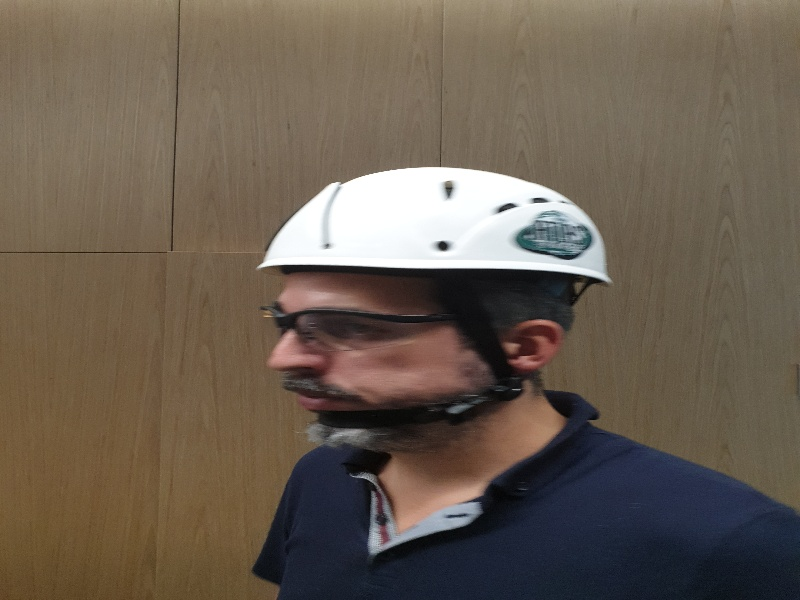Baret: (258, 167, 615, 286)
Gozluk: (258, 304, 449, 349)
